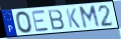2: (98, 4, 114, 27)
B: (47, 9, 66, 32)
E: (30, 9, 50, 33)
K: (65, 8, 82, 29)
M: (78, 4, 101, 30)
O: (14, 10, 34, 34)
